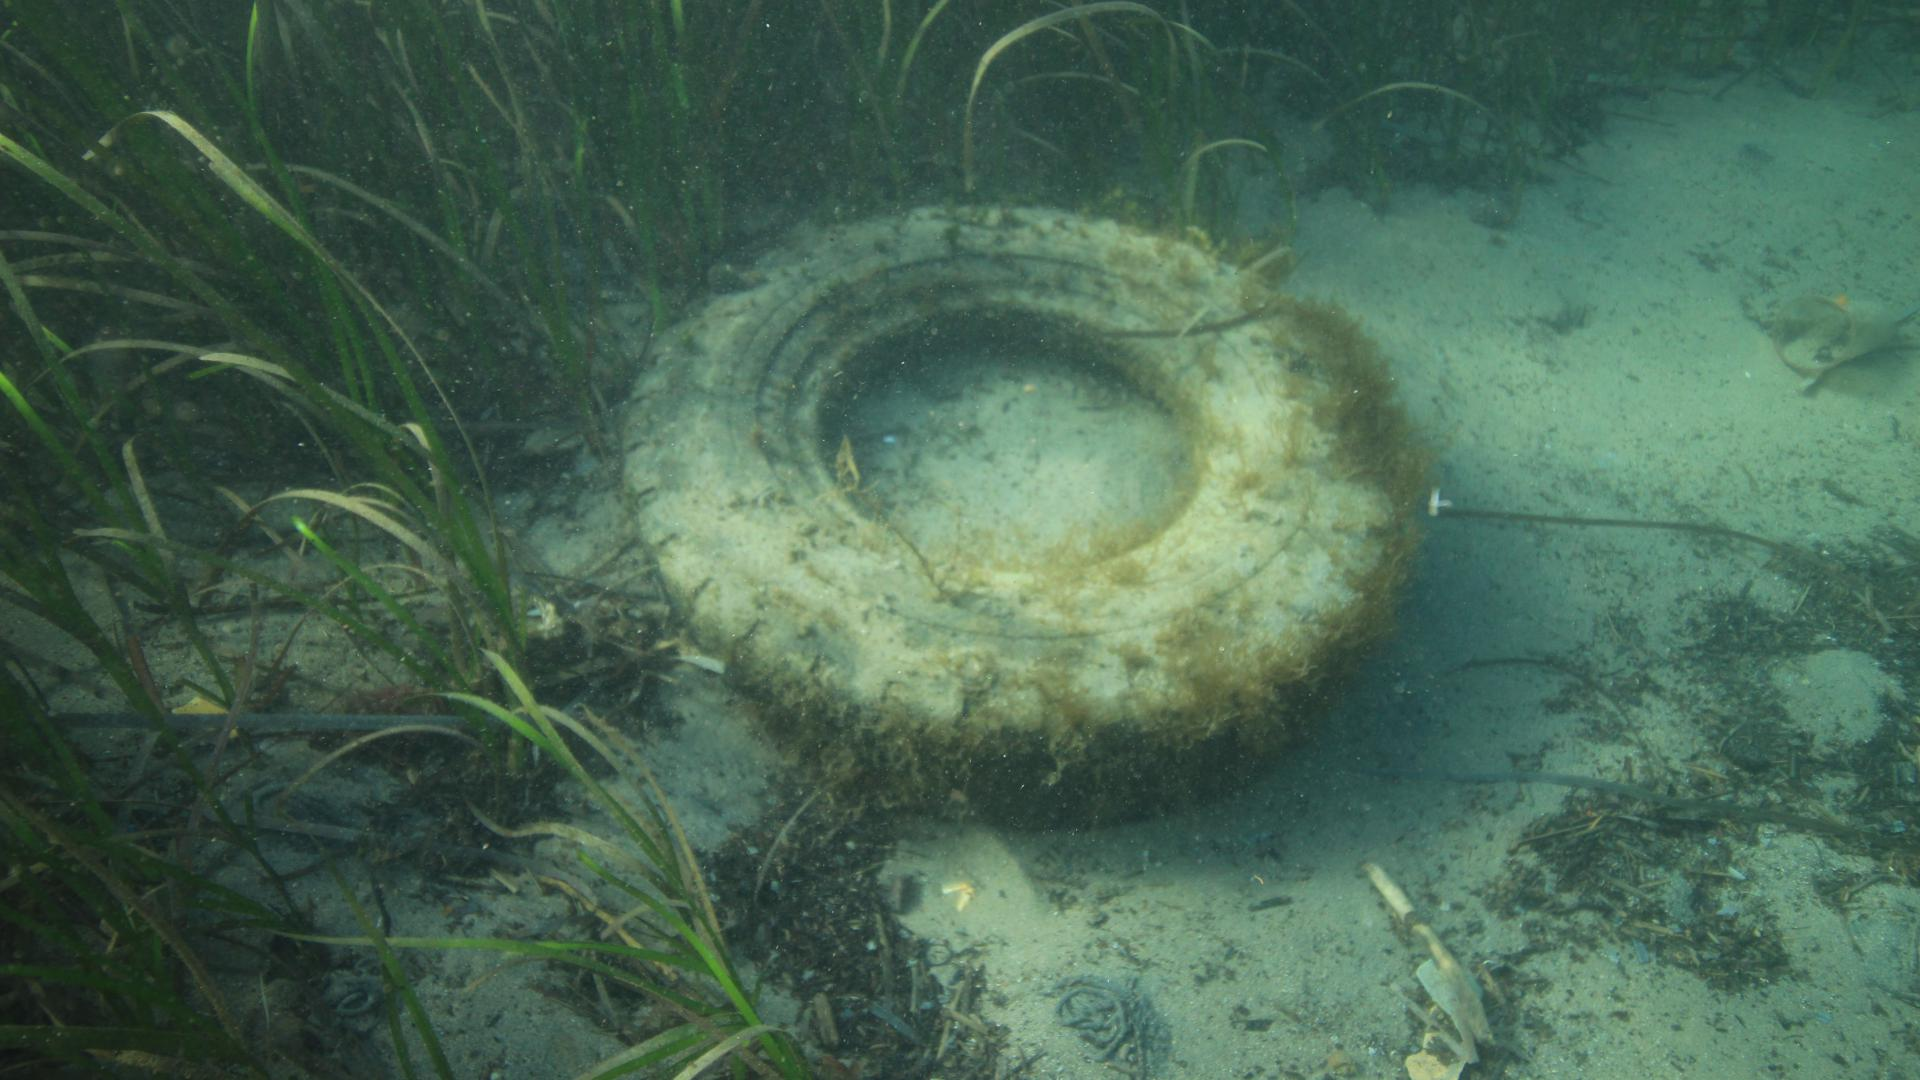tire: (618, 199, 1387, 829)
